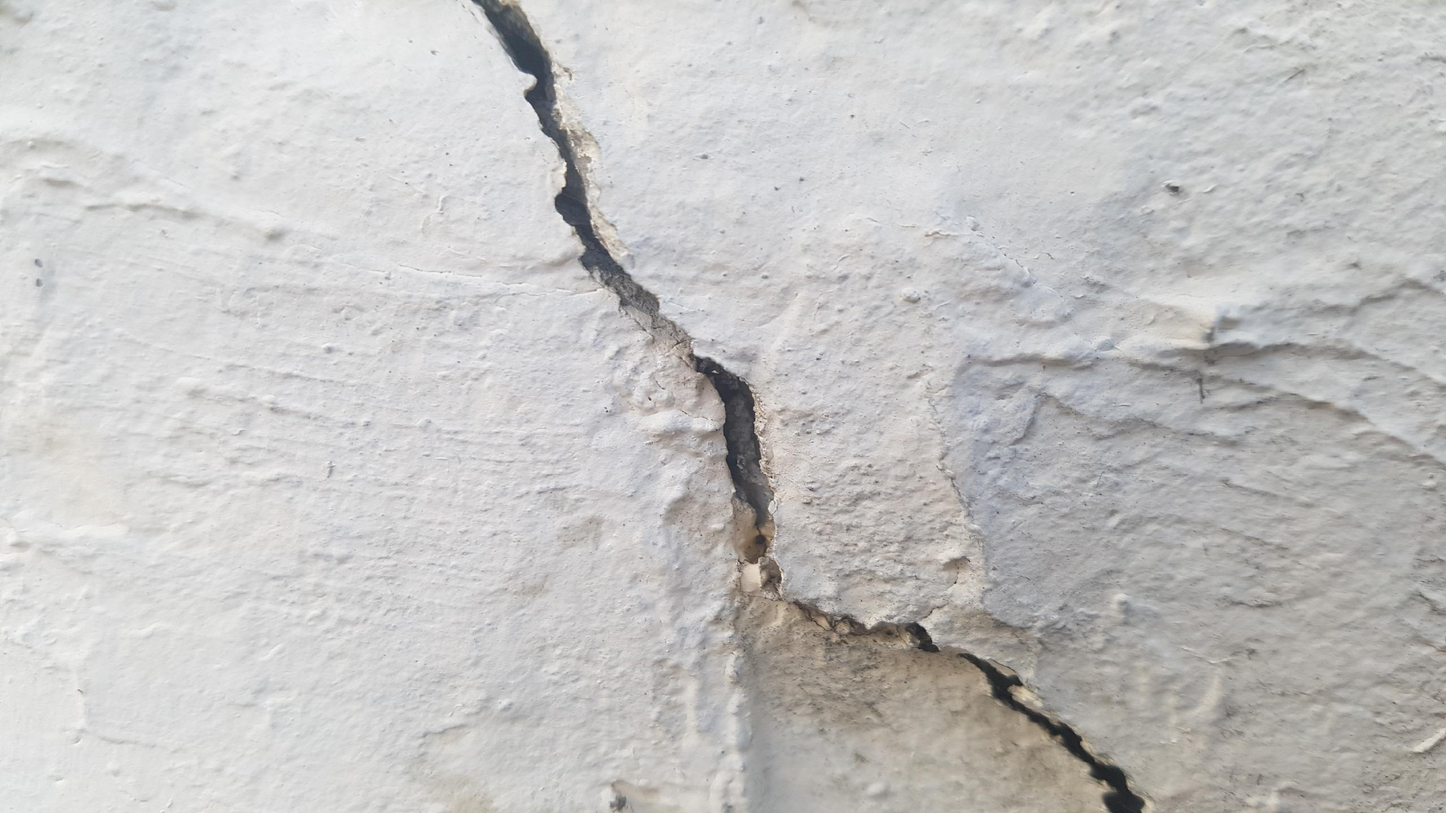crack: (468, 0, 1147, 811)
